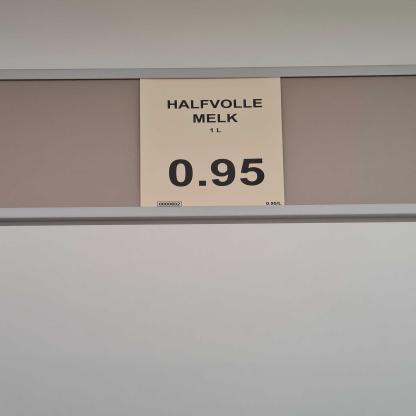prtg: (137, 77, 288, 208)
